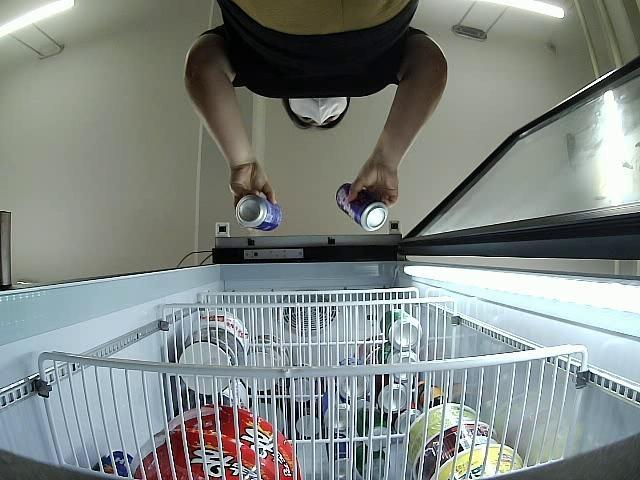14_welchsGrape: (336, 183, 387, 230), (235, 194, 282, 230)
